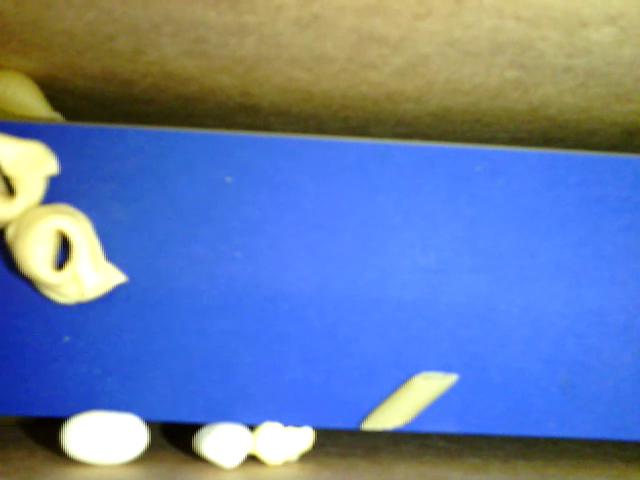penne: (360, 369, 459, 432)
shell: (1, 67, 70, 125)
tortellini: (6, 202, 134, 312), (1, 132, 60, 228)
